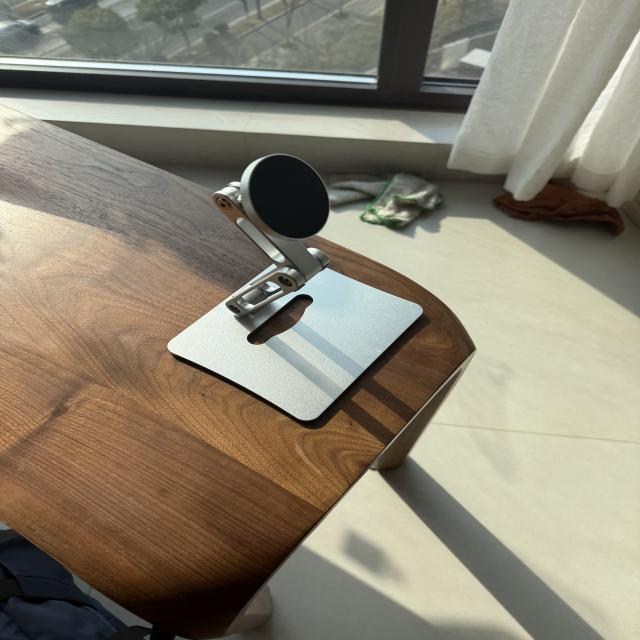phone holder: (151, 140, 447, 433)
